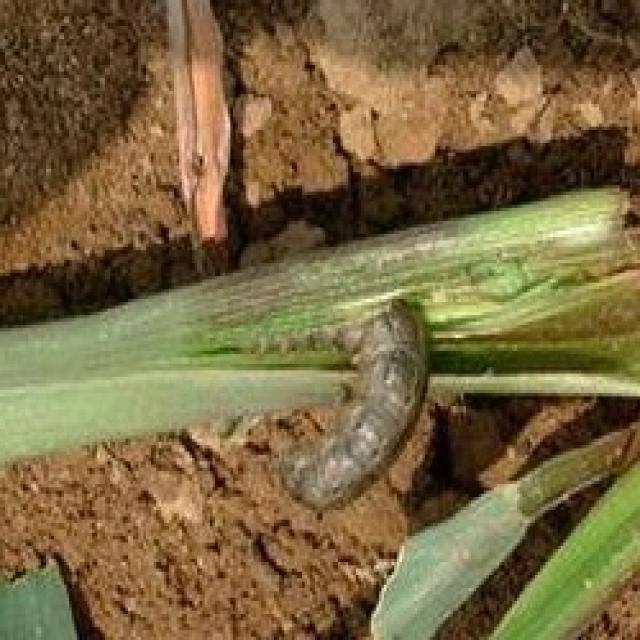black cutworm: (274, 295, 430, 526)
